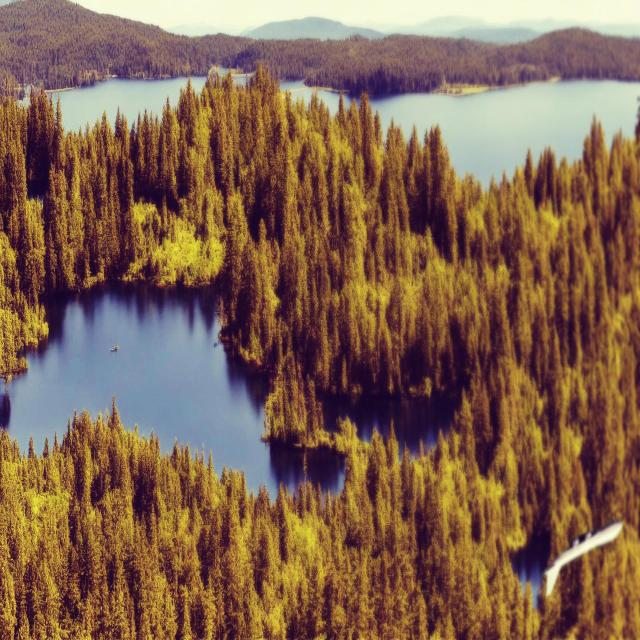airplane: (542, 518, 624, 596)
